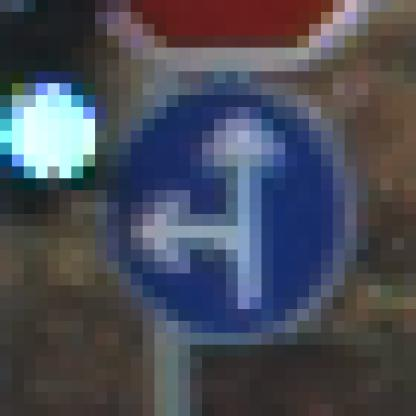Straight or Left: (72, 72, 358, 358)
